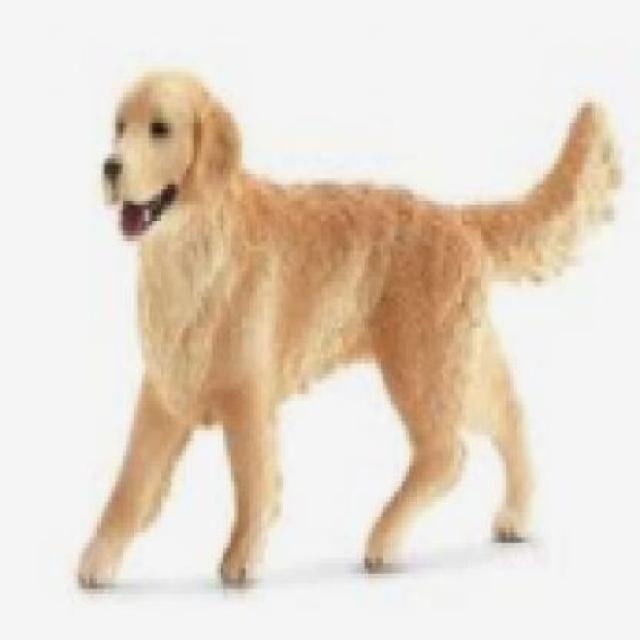Dog: (79, 58, 626, 600)
